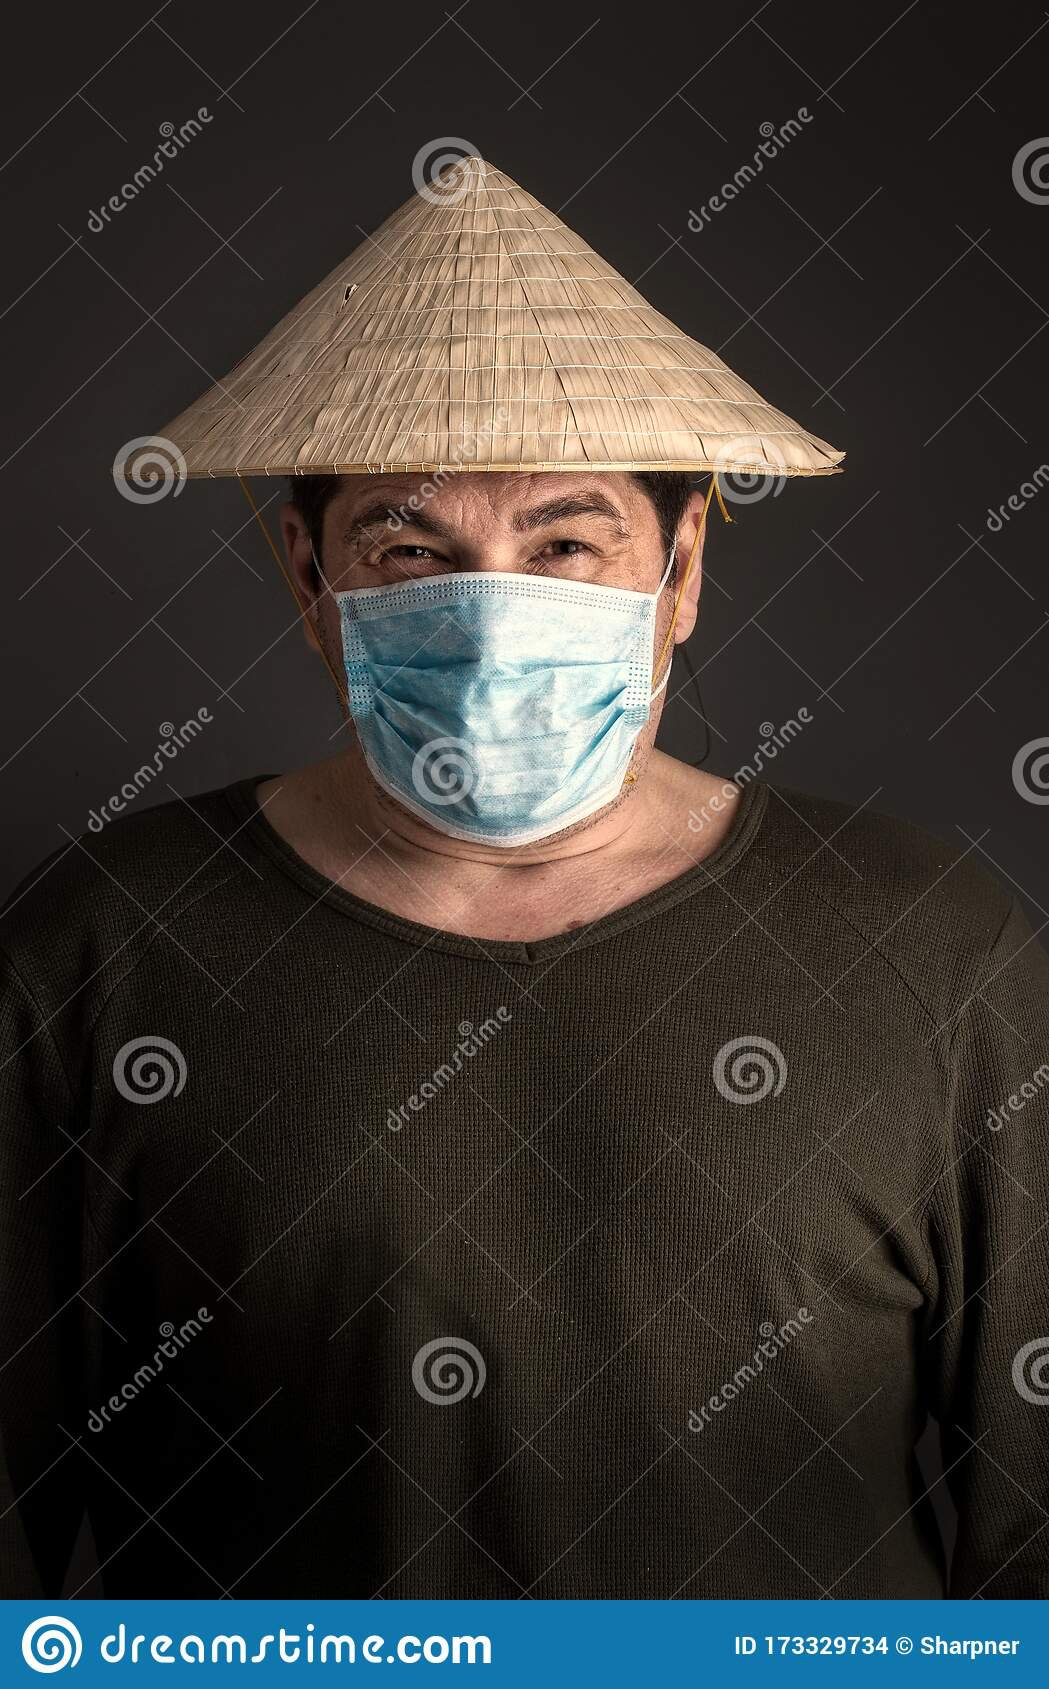mask: (268, 478, 743, 871)
